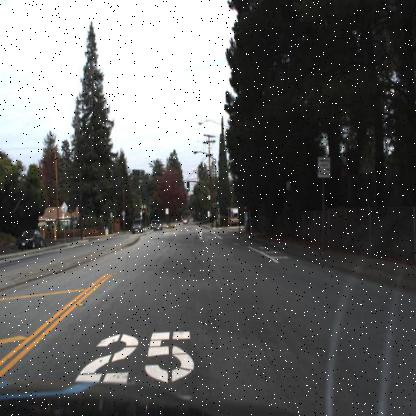car: (16, 222, 46, 253), (132, 216, 143, 236), (152, 217, 166, 232)
trafficLight-Green: (185, 175, 192, 193), (214, 194, 220, 210)
trafficLight-RedLeft: (141, 206, 147, 218)
